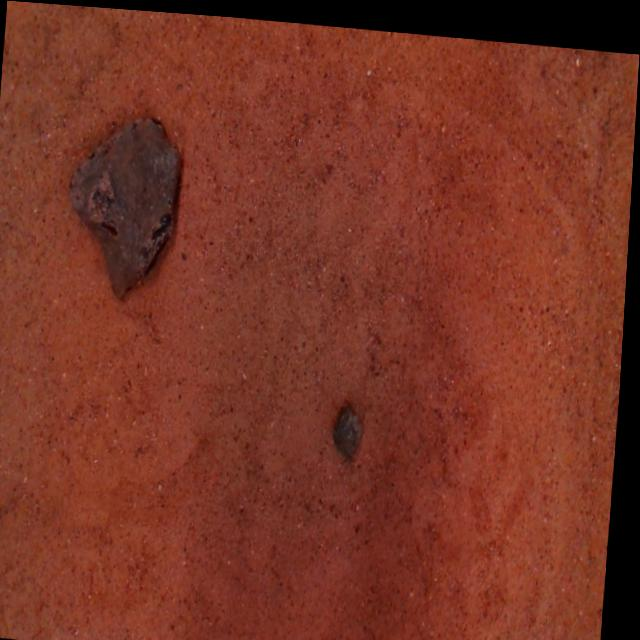rock: (71, 115, 181, 293), (338, 398, 367, 450)
